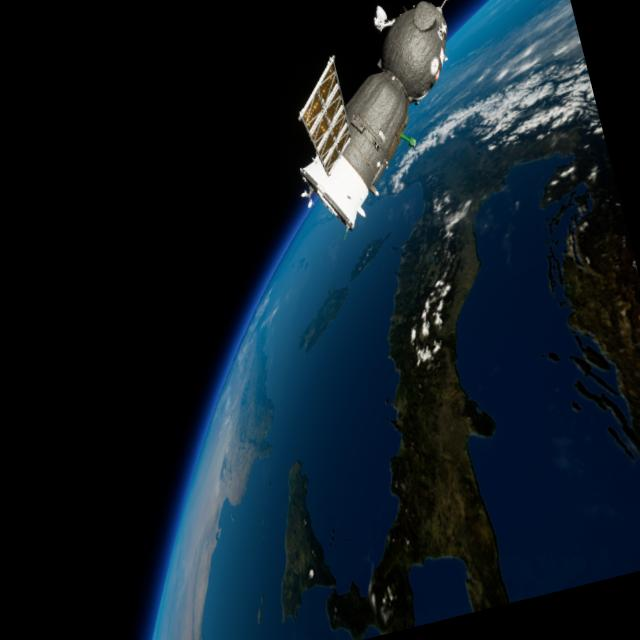Satellites revolving around earth: (258, 0, 500, 245)
